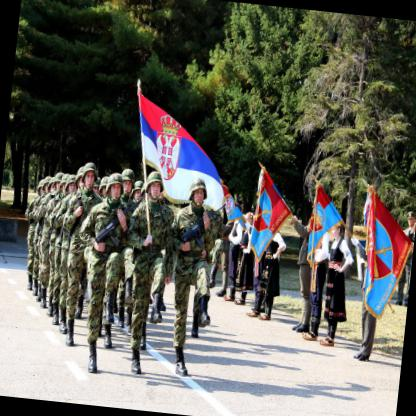rs: (127, 91, 235, 214)
